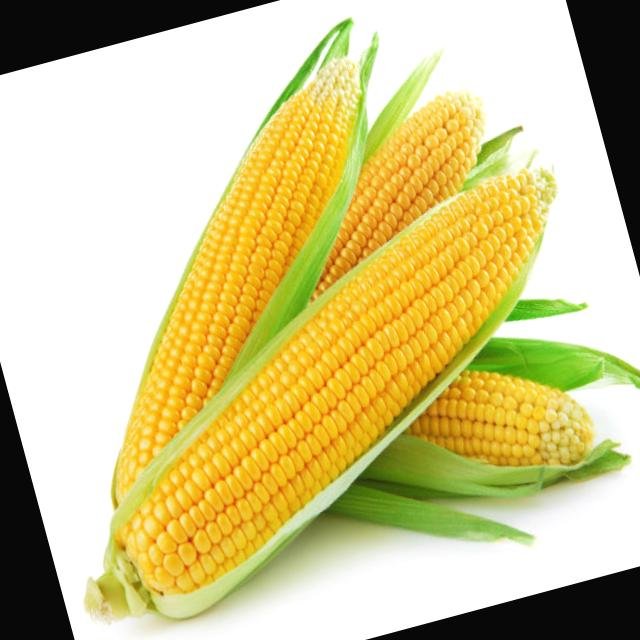corn: (83, 171, 554, 617), (109, 58, 367, 504)
